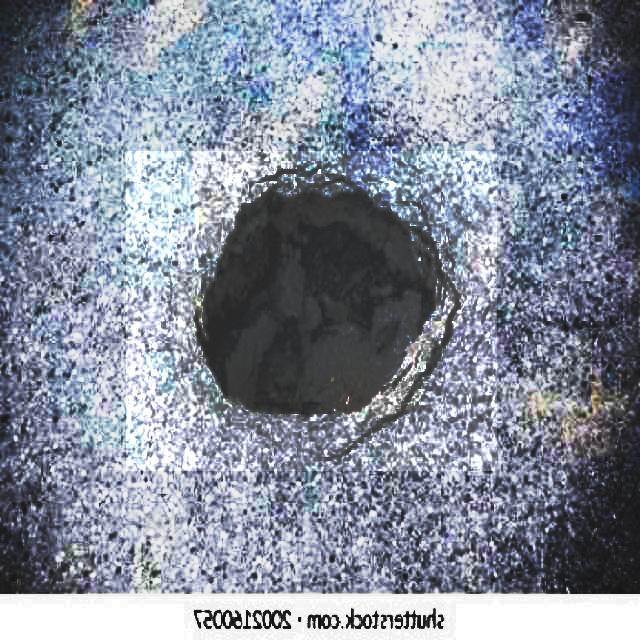pothole: (126, 151, 497, 471)
